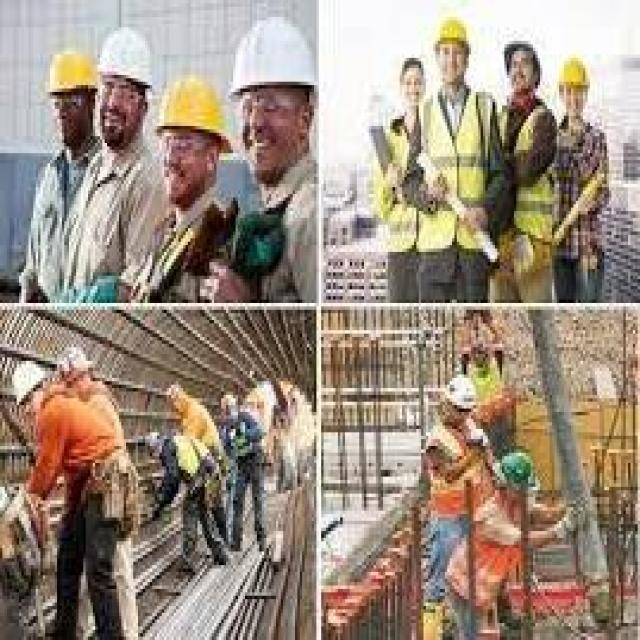reflective_jacket: (23, 374, 133, 531), (416, 81, 494, 258), (449, 490, 540, 633), (418, 418, 490, 531)
safety_helmet: (226, 6, 323, 102), (152, 64, 235, 153), (35, 37, 104, 102), (95, 20, 157, 91), (490, 442, 544, 500), (2, 354, 54, 411), (440, 367, 483, 415), (430, 6, 475, 51), (554, 47, 594, 95)
